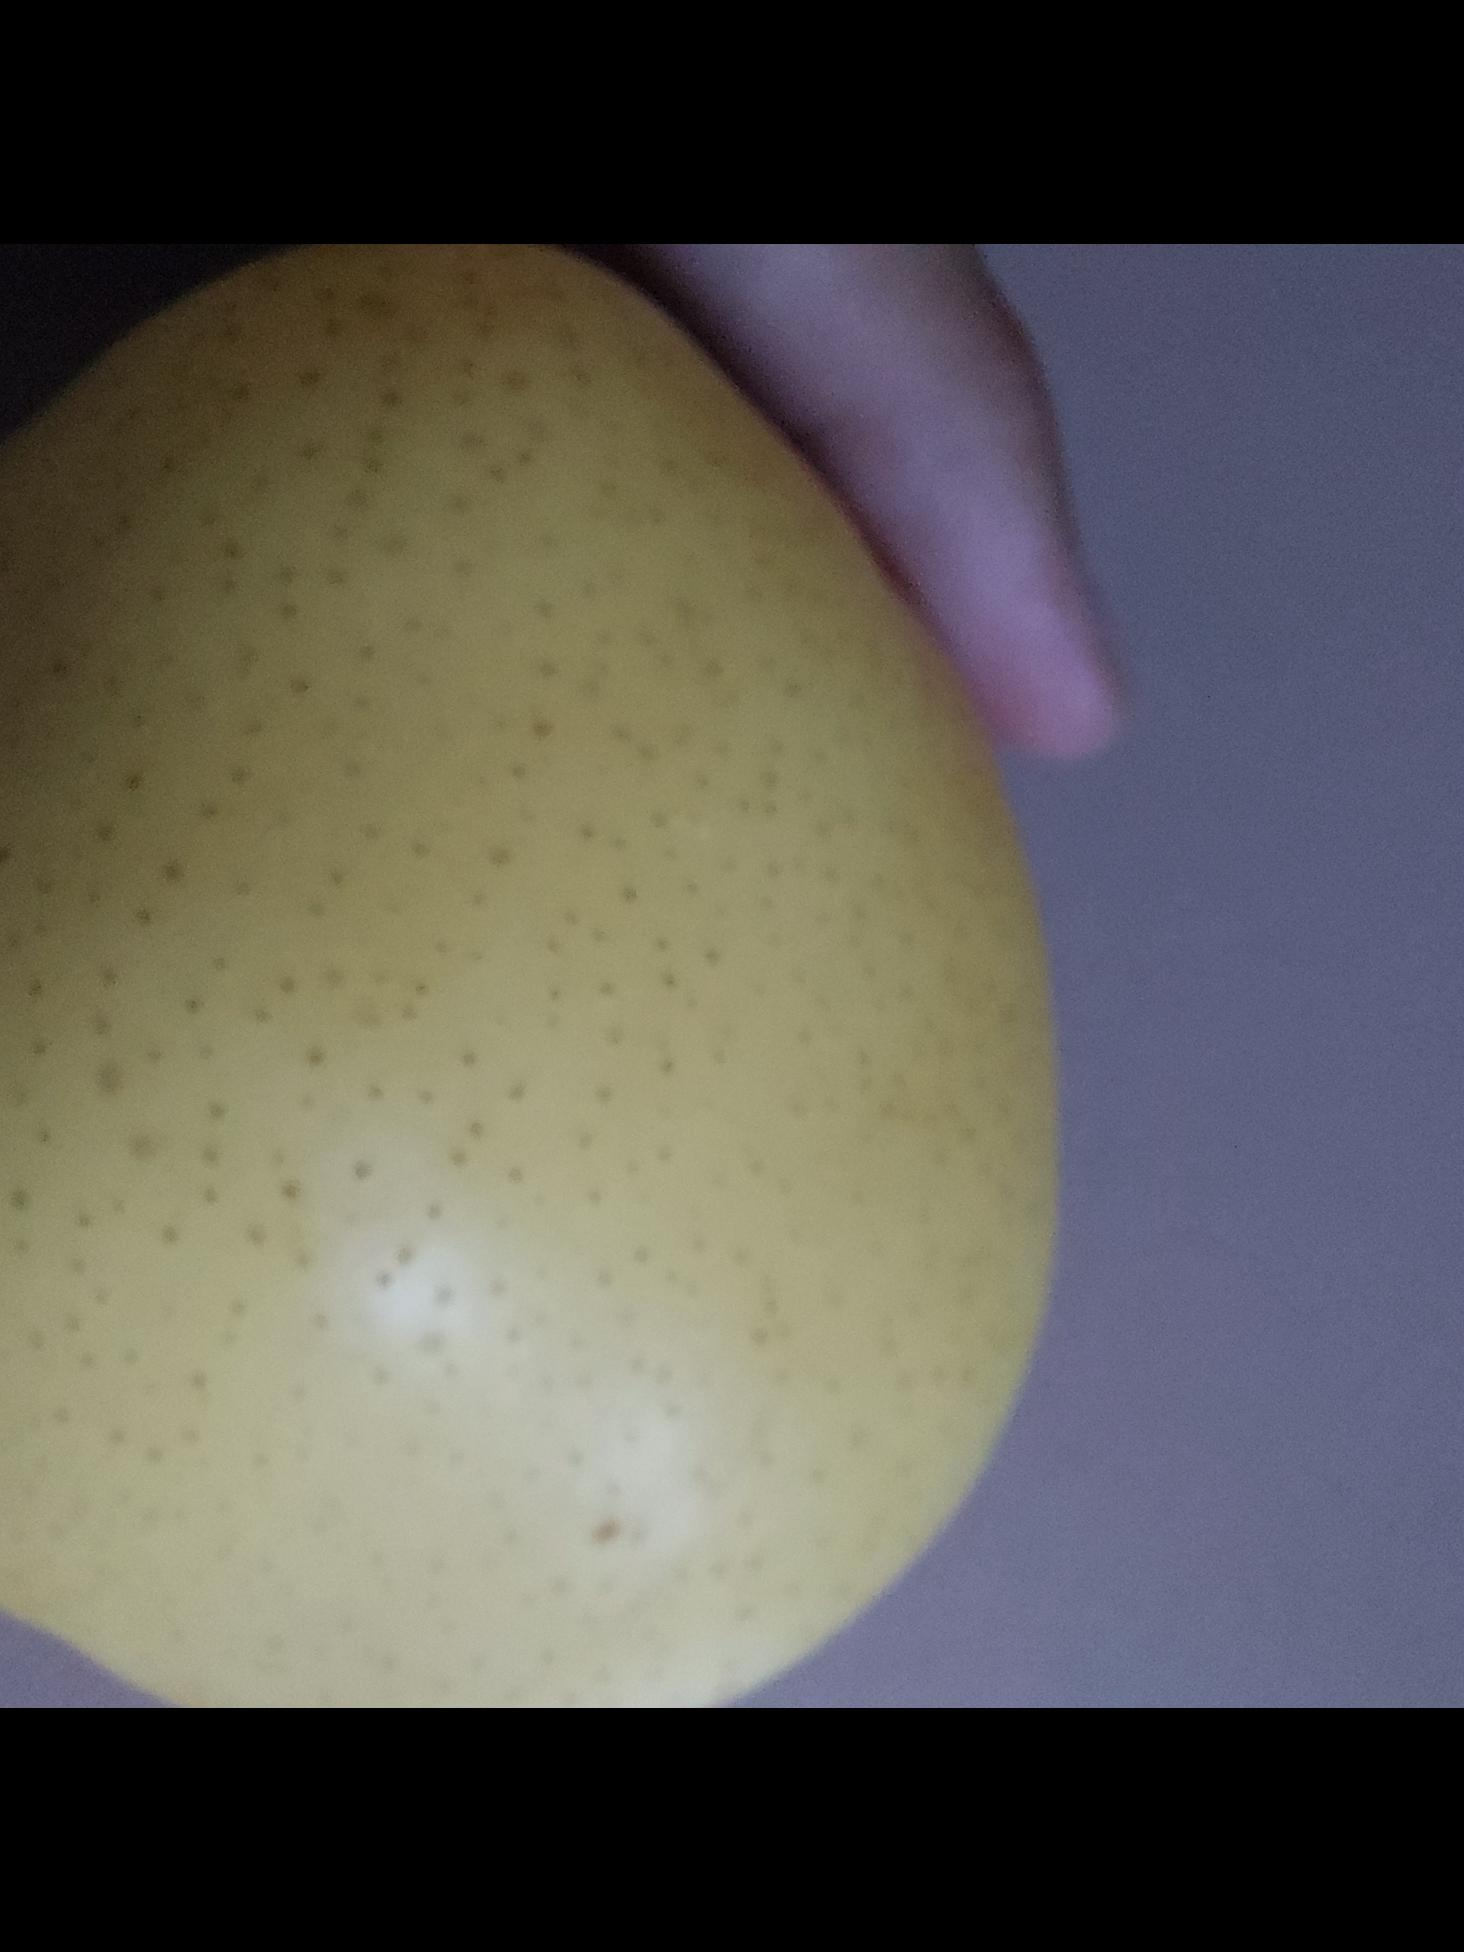Good Pear: (0, 244, 1053, 1708)
